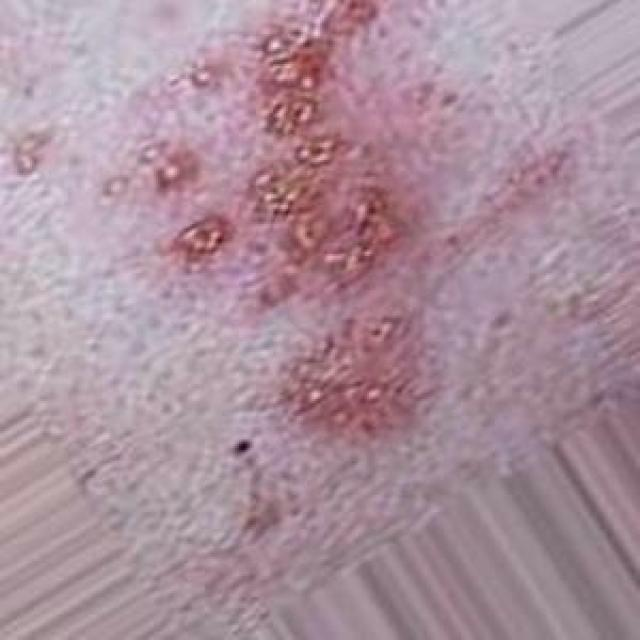Shingles: (155, 0, 415, 296), (280, 305, 424, 437)
